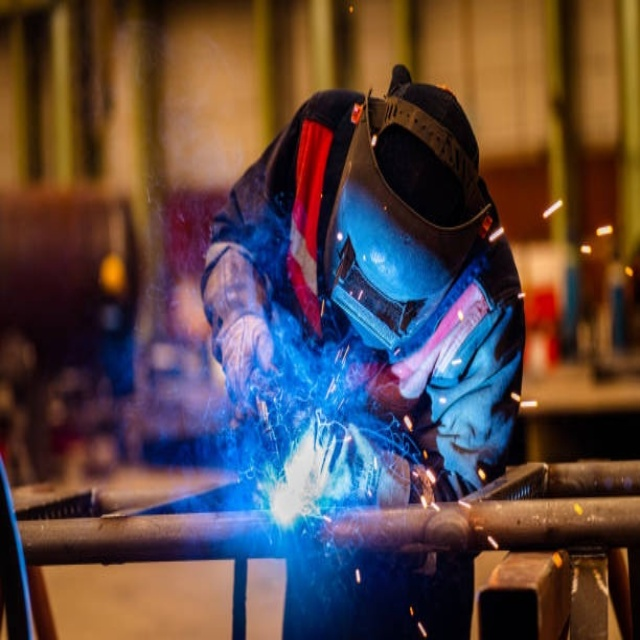Guantes: (199, 237, 281, 405)
